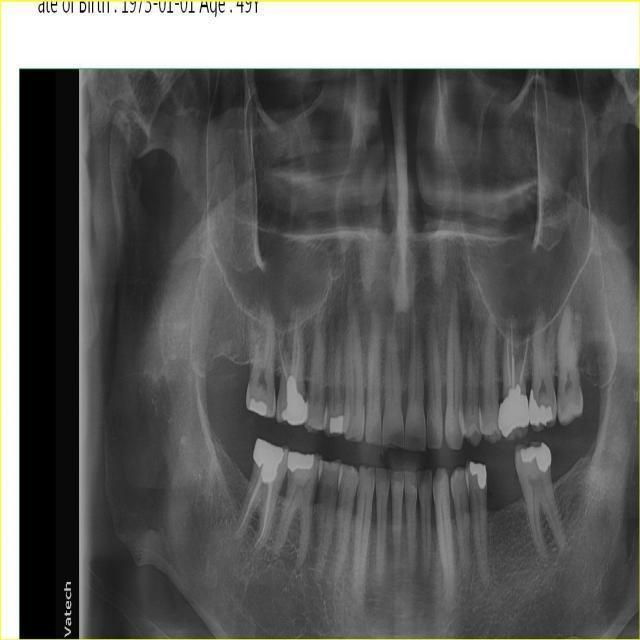Filling: (498, 384, 529, 438), (281, 375, 309, 425), (254, 438, 284, 484), (521, 442, 552, 472), (529, 388, 552, 427), (287, 450, 315, 472), (470, 461, 487, 489), (249, 399, 266, 416), (330, 415, 344, 435)
Missing teeth: (487, 448, 523, 518)
Root Canal Treatment: (234, 471, 263, 536), (254, 481, 274, 548), (278, 328, 289, 383), (518, 333, 528, 387), (291, 313, 297, 376), (294, 325, 300, 381), (506, 338, 512, 387), (511, 321, 514, 357)
